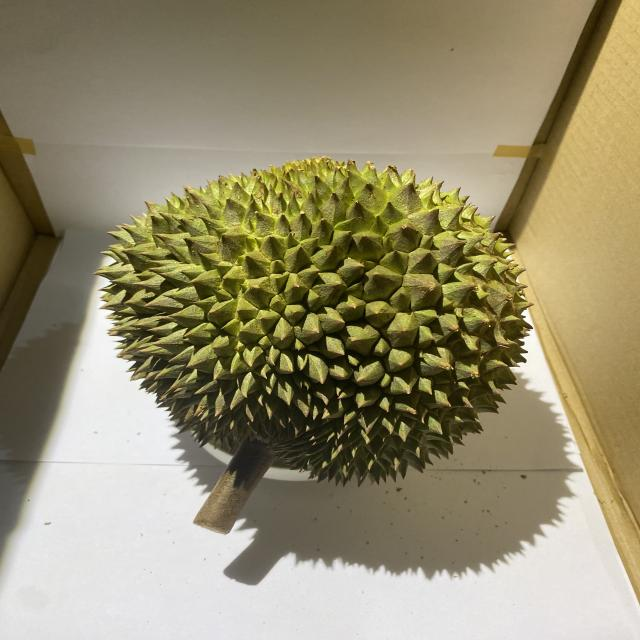immature: (93, 156, 532, 490)
